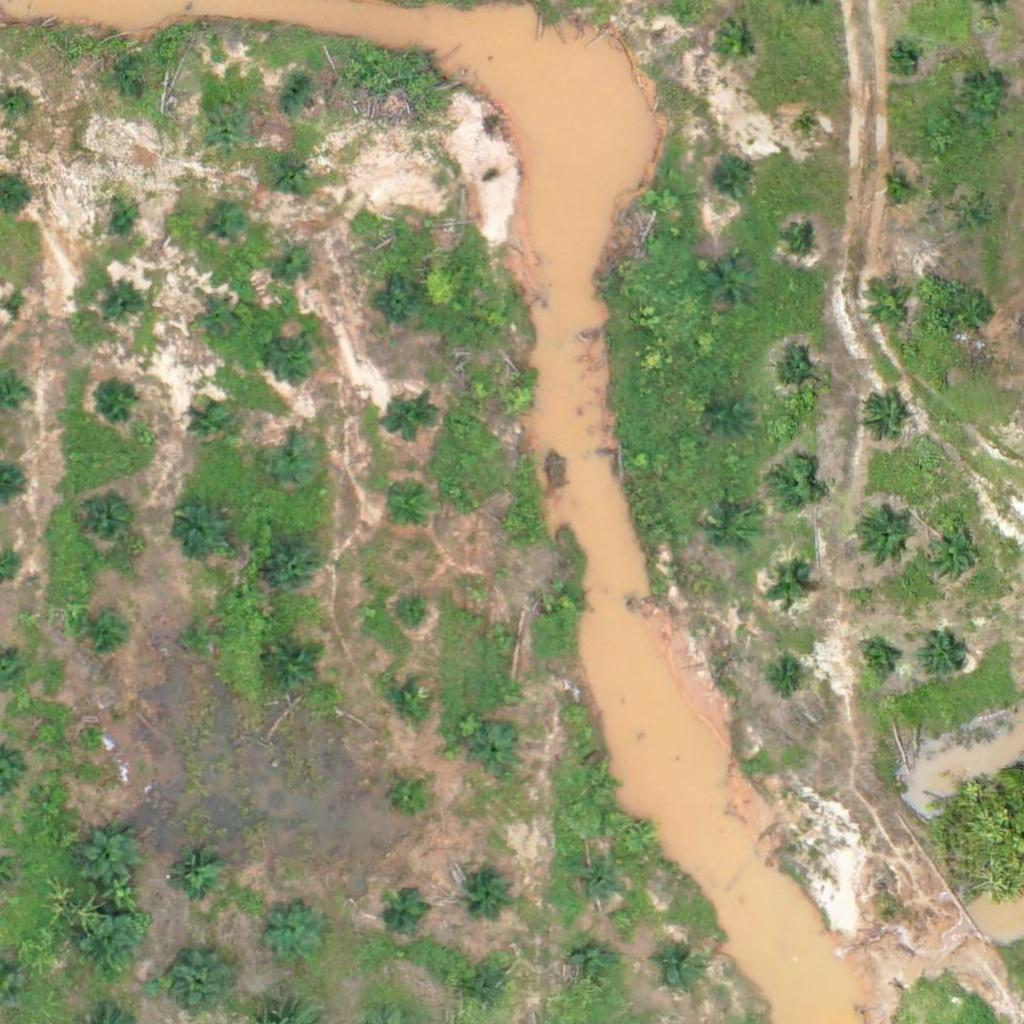Kelapa_Sawit: (166, 497, 229, 560), (164, 850, 227, 913), (168, 950, 231, 1013), (263, 433, 326, 496), (78, 826, 141, 889), (921, 522, 984, 585), (262, 902, 324, 965), (80, 915, 142, 978), (855, 504, 917, 567), (270, 540, 320, 591), (269, 643, 319, 694), (951, 287, 1001, 338), (380, 675, 430, 726), (864, 281, 914, 332), (710, 20, 760, 71), (82, 494, 132, 545), (94, 375, 144, 426), (271, 331, 321, 381), (464, 863, 514, 913), (382, 888, 432, 938), (571, 858, 621, 908), (470, 727, 520, 777), (567, 943, 617, 993), (653, 942, 703, 992), (461, 967, 511, 1017), (772, 352, 822, 402), (770, 461, 820, 511), (859, 394, 909, 444), (919, 630, 969, 680), (384, 395, 434, 445), (382, 485, 432, 535), (959, 76, 1009, 126), (706, 260, 756, 310), (375, 280, 425, 330), (708, 511, 758, 561), (579, 765, 617, 803), (391, 776, 429, 814), (769, 566, 807, 604), (770, 657, 808, 695), (857, 640, 895, 678), (483, 617, 521, 655), (493, 504, 531, 542), (499, 379, 537, 417), (710, 161, 748, 199), (109, 197, 147, 235), (277, 239, 315, 277), (277, 152, 315, 190), (276, 77, 314, 115), (85, 613, 123, 651), (547, 579, 584, 617), (954, 198, 992, 235), (710, 399, 747, 437), (105, 281, 143, 318), (120, 77, 157, 115), (205, 114, 242, 152), (210, 206, 247, 244), (200, 302, 237, 340), (181, 619, 218, 657), (393, 598, 430, 635), (191, 406, 228, 443), (890, 47, 915, 72), (883, 177, 908, 202), (795, 116, 820, 141), (789, 228, 814, 253)
